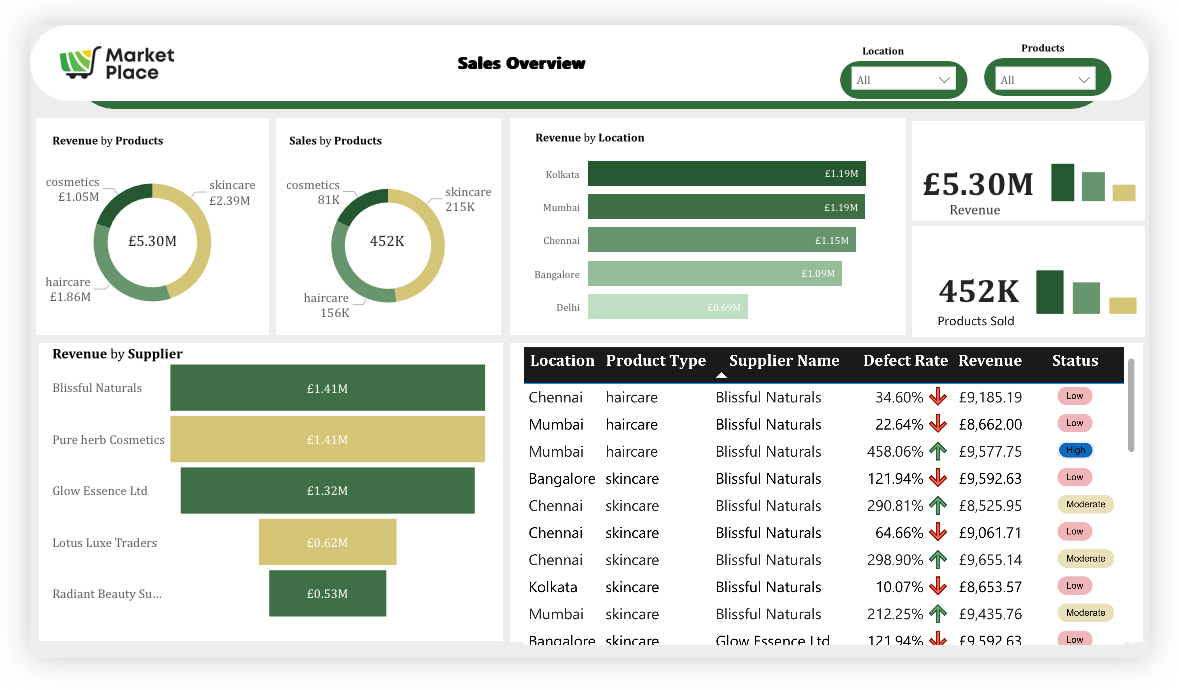

Layout of this report page (visuals, bound fields, positions):
{"tool":"powerbi","page":{"name":"Sales","canvas":[1280,720],"ordinal":0},"visuals":[{"type":"shape","box":[8.7,364.7,531.3,341.3],"z":0},{"type":"shape","box":[1008.2,108.2,266.4,114.5],"z":1000},{"type":"shape","box":[548,108,452.7,248.7],"z":2000},{"type":"shape","box":[53.1,8.5,1183.4,89.4],"z":3000},{"type":"shape","box":[1007.3,229.1,266.4,127.3],"z":4000},{"type":"shape","box":[282.1,107.9,257.9,248.6],"z":5000},{"type":"shape","box":[7.9,107.9,266.4,248.6],"z":6000},{"type":"shape","box":[548,364.7,724,342],"z":7000},{"type":"donutChart","fields":{"Category":["Dim Products.Product type"],"Y":["Measure Table.Sum of Revenue"]},"box":[8.2,150,266.4,195.5],"z":8000},{"type":"card","fields":{"Values":["Sum(Fact Table.Revenue generated)"]},"box":[56.4,222.7,170.9,48.2],"z":9000},{"type":"clusteredBarChart","fields":{"Category":["Dim Location.Location"],"Y":["Measure Table.Sum of Revenue"]},"box":[564.5,125.5,436.4,230.9],"z":10000},{"type":"donutChart","fields":{"Category":["Dim Products.Product type"],"Y":["Measure Table.sum of products sold"]},"box":[281.8,156.4,256.4,189.1],"z":11000},{"type":"card","fields":{"Values":["Measure Table.sum of products sold"]},"box":[323.6,229.1,171.8,36.4],"z":12000},{"type":"textbox","box":[20,116.4,159.1,39.1],"z":13000},{"type":"textbox","box":[290.9,116.4,148.2,33.6],"z":14000},{"type":"card","fields":{"Values":["Measure Table.Sum of Revenue"]},"box":[1005.5,150,159.1,55.5],"z":16000},{"type":"card","fields":{"Values":["Measure Table.sum of products sold"]},"box":[1000.9,262.7,166.4,73.6],"z":17000},{"type":"textbox","box":[573.6,114.5,178.2,35.5],"z":18000},{"type":"textbox","box":[1047.3,196.4,84.5,35.5],"z":19000},{"type":"columnChart","fields":{"Category":["Dim Products.Product type"],"Y":["Measure Table.Sum of Revenue"]},"box":[1163.6,132.7,108.2,73.6],"z":20000},{"type":"textbox","box":[1031.2,322.4,129.2,29],"z":21000},{"type":"columnChart","fields":{"Category":["Dim Products.Product type"],"Y":["Measure Table.sum of products sold"]},"box":[1144.8,247.5,126.8,89.4],"z":22000},{"type":"shape","box":[0,0,1280,86.9],"z":23000},{"type":"image","box":[25.4,7.2,153.4,73.7],"z":24000},{"type":"shape","box":[925,39.8,146.1,43.5],"z":25000},{"type":"slicer","fields":{"Values":["Dim Location.Location"]},"box":[928.6,37.4,138.9,48.3],"z":26000},{"type":"shape","box":[1090.4,37.4,146.1,43.5],"z":27000},{"type":"slicer","fields":{"Values":["Dim Products.Product type"]},"box":[1095.2,36.2,134,44.7],"z":28000},{"type":"textbox","box":[947.9,13.3,83.3,30.2],"z":29000},{"type":"textbox","box":[1127.8,9.7,83.3,30.2],"z":30000},{"type":"textbox","box":[484.2,25.4,211.3,44.7],"z":31000},{"type":"funnel","fields":{"Y":["Measure Table.Sum of Revenue"],"Category":["Dim Products.Supplier name"]},"box":[20,378.6,510,310],"z":32000},{"type":"textbox","box":[20,360,172.9,38.6],"z":33000},{"type":"tableEx","fields":{"Values":["Dim Location.Location","Dim Products.Product type","Dim Products.Supplier name","Measure Table.AVG Defect","Fact Table.Revenue generated","Measure Table.Buttons"]},"box":[560.7,364.7,710,350],"z":33500}]}

Visuals, with their boxes on the page's 1280x720 design canvas (x1, y1, x2, y2). These are canvas units, not pixel positions in the 1179x690 screenshot, which may show the page scaled, cropped or inside an application window:
shape: l=9, t=365, r=540, b=706
shape: l=1008, t=108, r=1275, b=223
shape: l=548, t=108, r=1001, b=357
shape: l=53, t=8, r=1236, b=98
shape: l=1007, t=229, r=1274, b=356
shape: l=282, t=108, r=540, b=356
shape: l=8, t=108, r=274, b=356
shape: l=548, t=365, r=1272, b=707
donutChart - Dim Products.Product type x Measure Table.Sum of Revenue: l=8, t=150, r=275, b=346
card - Sum(Fact Table.Revenue generated): l=56, t=223, r=227, b=271
clusteredBarChart - Dim Location.Location x Measure Table.Sum of Revenue: l=564, t=126, r=1001, b=356
donutChart - Dim Products.Product type x Measure Table.sum of products sold: l=282, t=156, r=538, b=346
card - Measure Table.sum of products sold: l=324, t=229, r=495, b=266
textbox: l=20, t=116, r=179, b=156
textbox: l=291, t=116, r=439, b=150
card - Measure Table.Sum of Revenue: l=1006, t=150, r=1165, b=206
card - Measure Table.sum of products sold: l=1001, t=263, r=1167, b=336
textbox: l=574, t=114, r=752, b=150
textbox: l=1047, t=196, r=1132, b=232
columnChart - Dim Products.Product type x Measure Table.Sum of Revenue: l=1164, t=133, r=1272, b=206
textbox: l=1031, t=322, r=1160, b=351
columnChart - Dim Products.Product type x Measure Table.sum of products sold: l=1145, t=248, r=1272, b=337
shape: l=0, t=0, r=1280, b=87
image: l=25, t=7, r=179, b=81
shape: l=925, t=40, r=1071, b=83
slicer - Dim Location.Location: l=929, t=37, r=1068, b=86
shape: l=1090, t=37, r=1236, b=81
slicer - Dim Products.Product type: l=1095, t=36, r=1229, b=81
textbox: l=948, t=13, r=1031, b=44
textbox: l=1128, t=10, r=1211, b=40
textbox: l=484, t=25, r=696, b=70
funnel - Measure Table.Sum of Revenue x Dim Products.Supplier name: l=20, t=379, r=530, b=689
textbox: l=20, t=360, r=193, b=399
tableEx - Dim Location.Location x Dim Products.Product type: l=561, t=365, r=1271, b=715
